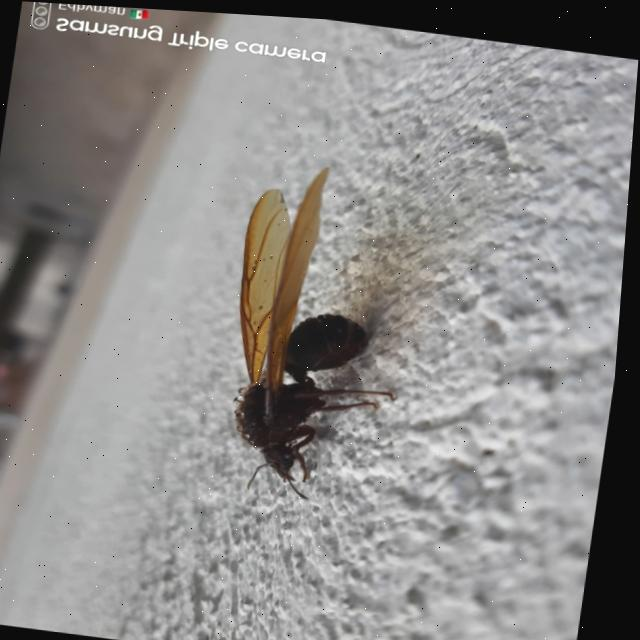Alive-Female-Alate: (214, 154, 432, 504)
